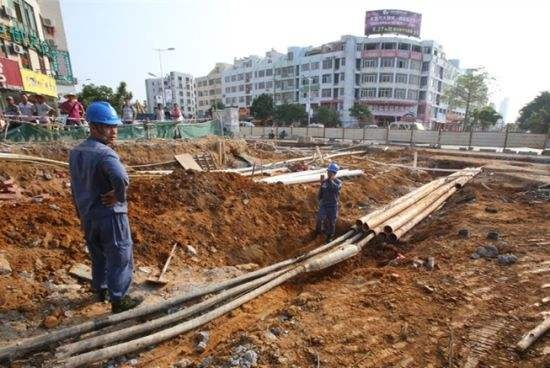blue: (85, 99, 119, 145), (327, 163, 338, 178)
